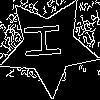H: (24, 21, 70, 60)
